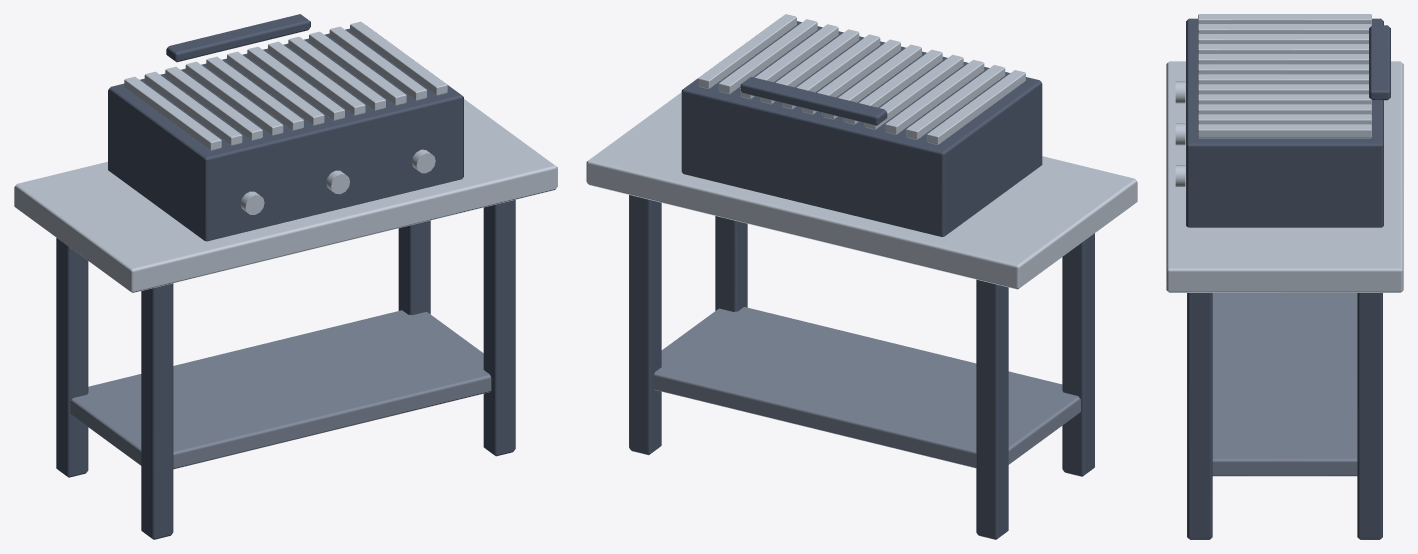
File: 户外烧烤台-lite.glb
3 views of the same model, side by side, from view 1: azimuth 30°, elevation 25°; view 2: azimuth 150°, elevation 25°; view 3: azimuth 270°, elevation 25° (orthographic).
Parts seen in each view (by area): view 1: garden-barbecue; view 2: garden-barbecue; view 3: garden-barbecue.
Boxes of the visible parts, <box> form: garden-barbecue: <box>14,14,557,539</box>; garden-barbecue: <box>586,14,1137,539</box>; garden-barbecue: <box>1166,14,1403,539</box>.
Bounding box in the file's own units: 1.25 × 1.1 × 0.6.
